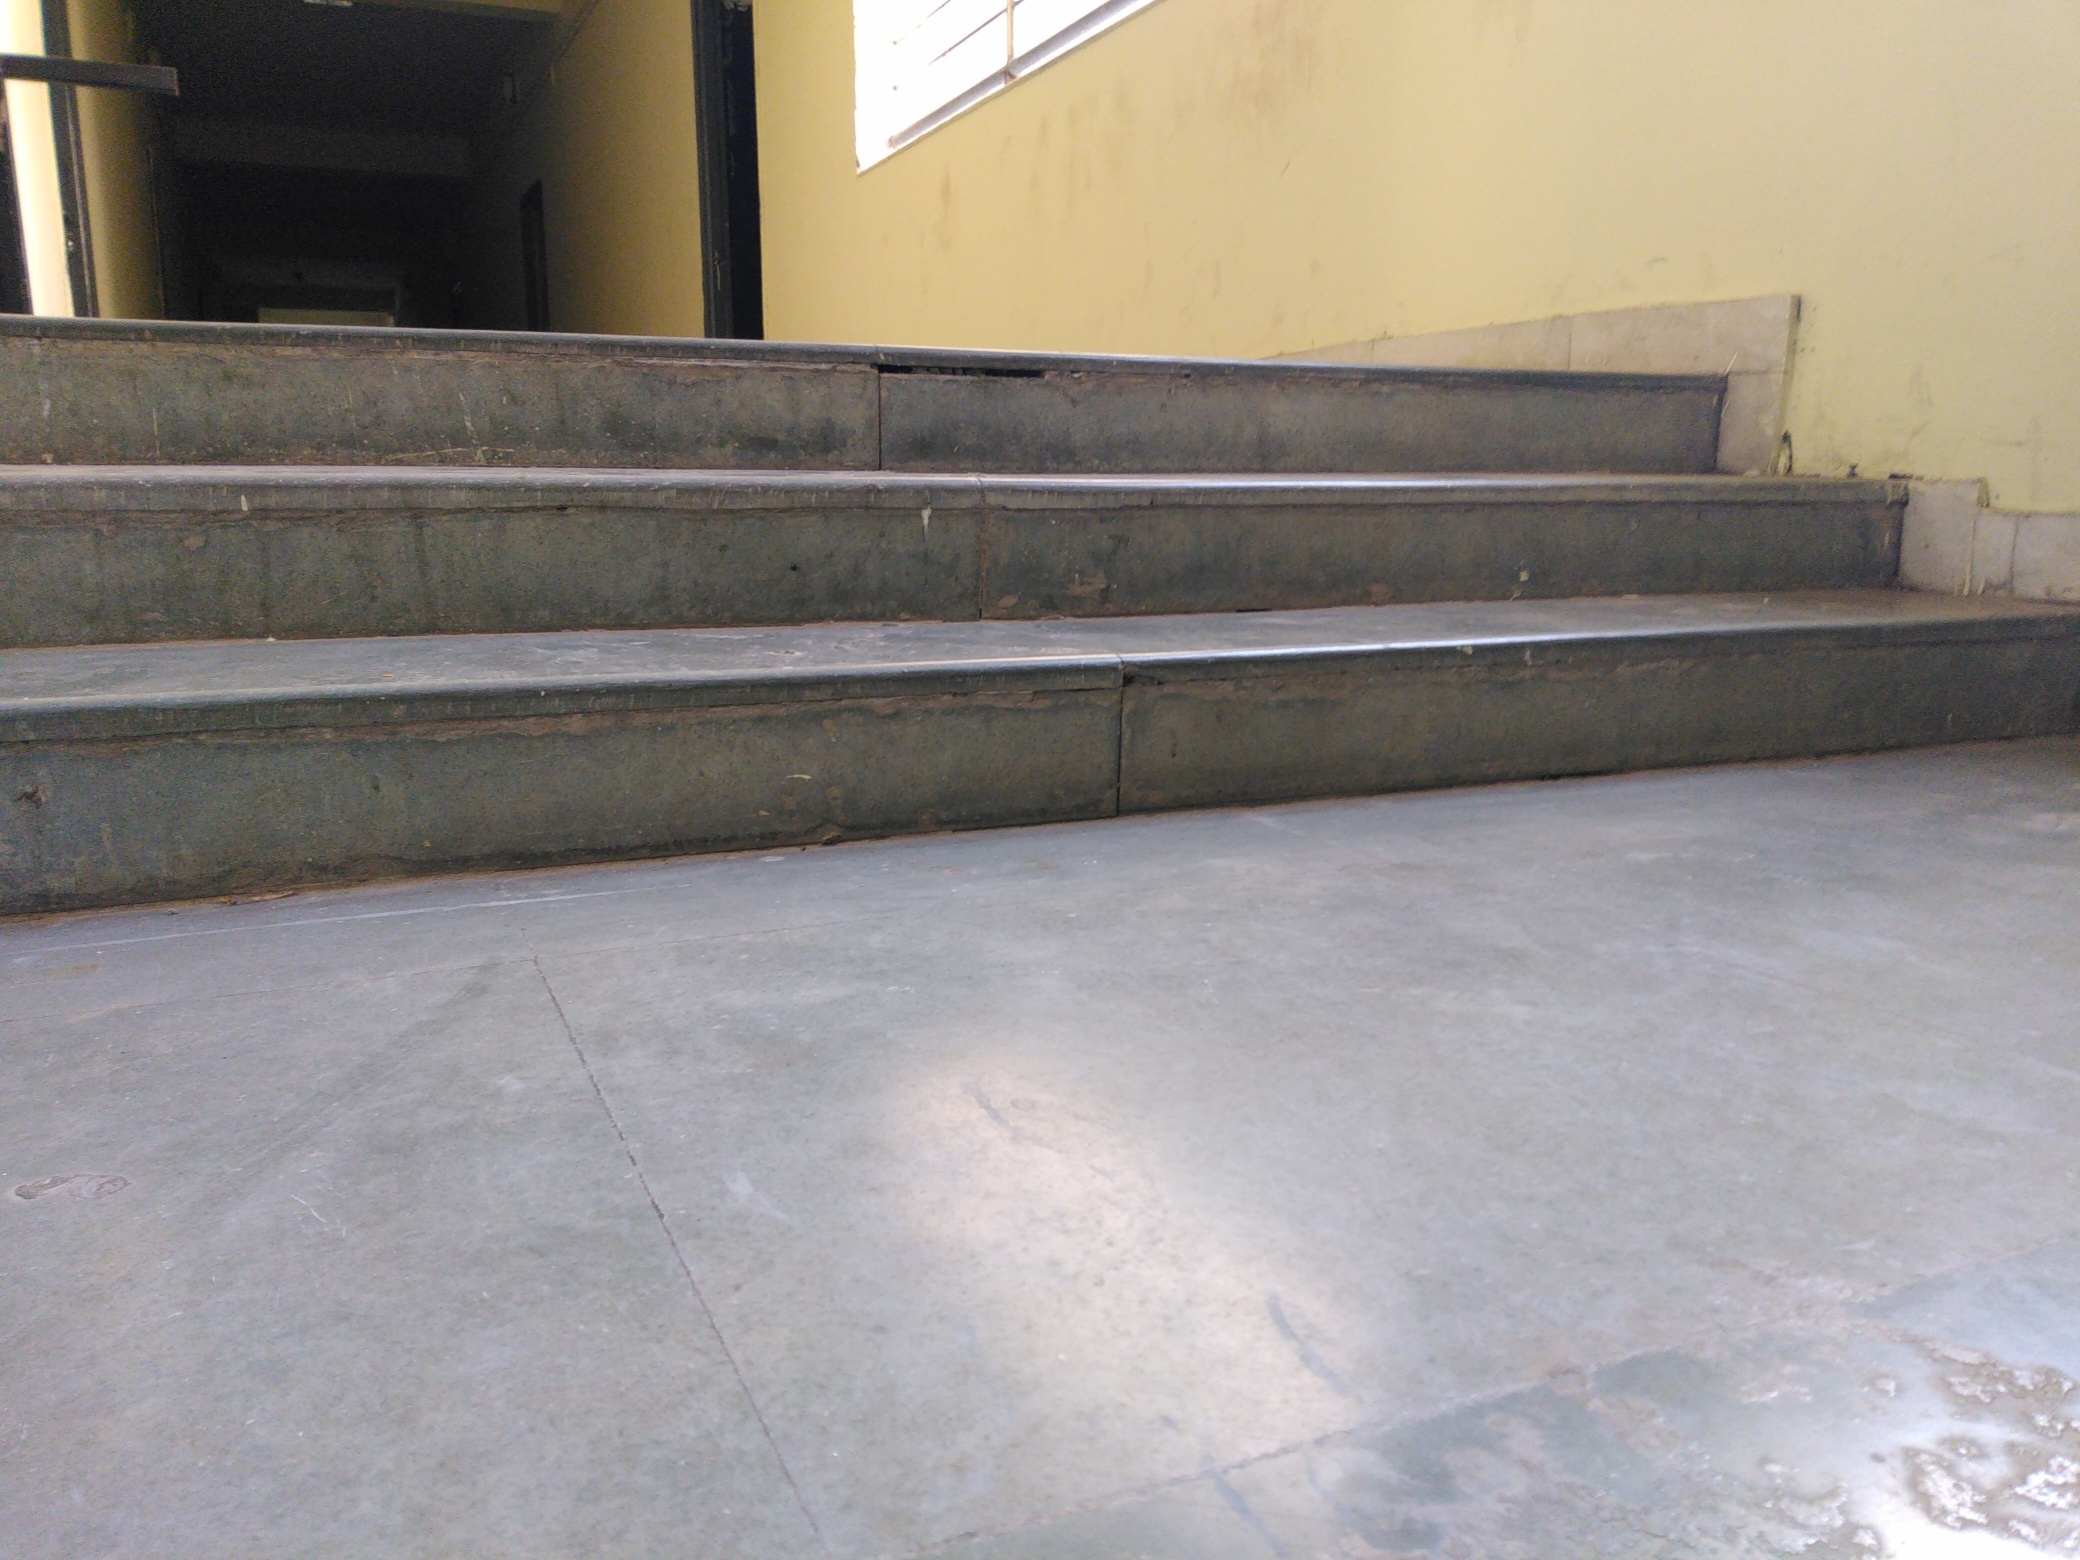stairs_up: (15, 316, 1977, 811)
